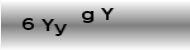6: (20, 16, 37, 30)
Y: (99, 5, 115, 22), (40, 17, 55, 33)
g: (80, 9, 96, 25)
y: (52, 21, 67, 36)
